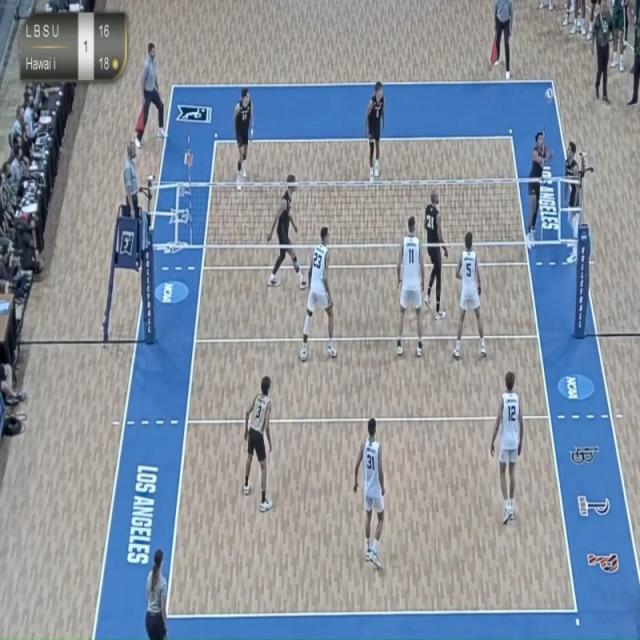volleyball: (542, 82, 557, 108)
